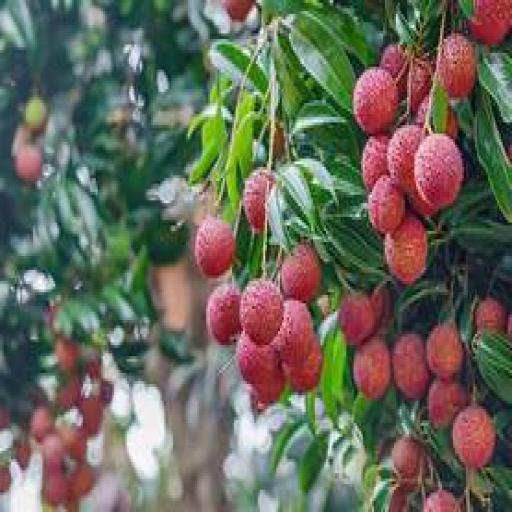lychee: (414, 134, 463, 208), (383, 215, 426, 283), (239, 279, 282, 345), (353, 67, 396, 133), (451, 407, 494, 470), (272, 301, 313, 367), (438, 34, 476, 100), (279, 243, 319, 303), (392, 334, 428, 400), (386, 126, 422, 191), (195, 218, 234, 278), (235, 334, 280, 386), (353, 337, 389, 400), (425, 323, 463, 381), (283, 337, 321, 392), (206, 284, 240, 345), (368, 176, 404, 233), (243, 167, 273, 233), (338, 293, 374, 347), (467, 0, 511, 44), (427, 379, 466, 428), (390, 437, 424, 486), (360, 134, 387, 191), (379, 45, 406, 97), (407, 59, 431, 111), (250, 373, 284, 409), (473, 298, 505, 333), (14, 145, 41, 183), (370, 284, 391, 331), (69, 462, 94, 500), (58, 426, 85, 461), (79, 396, 102, 436), (42, 471, 67, 506), (40, 435, 65, 470), (55, 337, 80, 372), (23, 95, 46, 133), (57, 376, 81, 411), (407, 190, 437, 217), (29, 407, 52, 442), (423, 490, 459, 511), (222, 0, 253, 22), (386, 487, 409, 511), (442, 106, 457, 139), (14, 440, 30, 470), (99, 379, 113, 406), (0, 465, 10, 492), (506, 312, 511, 339)
